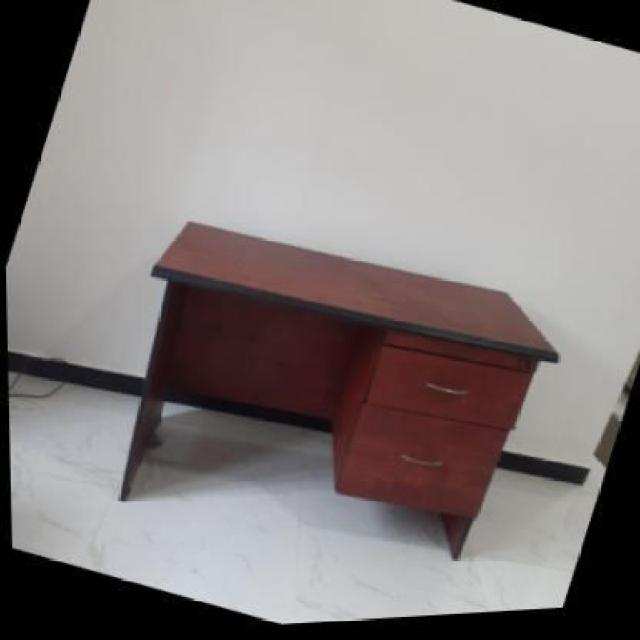tables: (117, 218, 560, 558)
